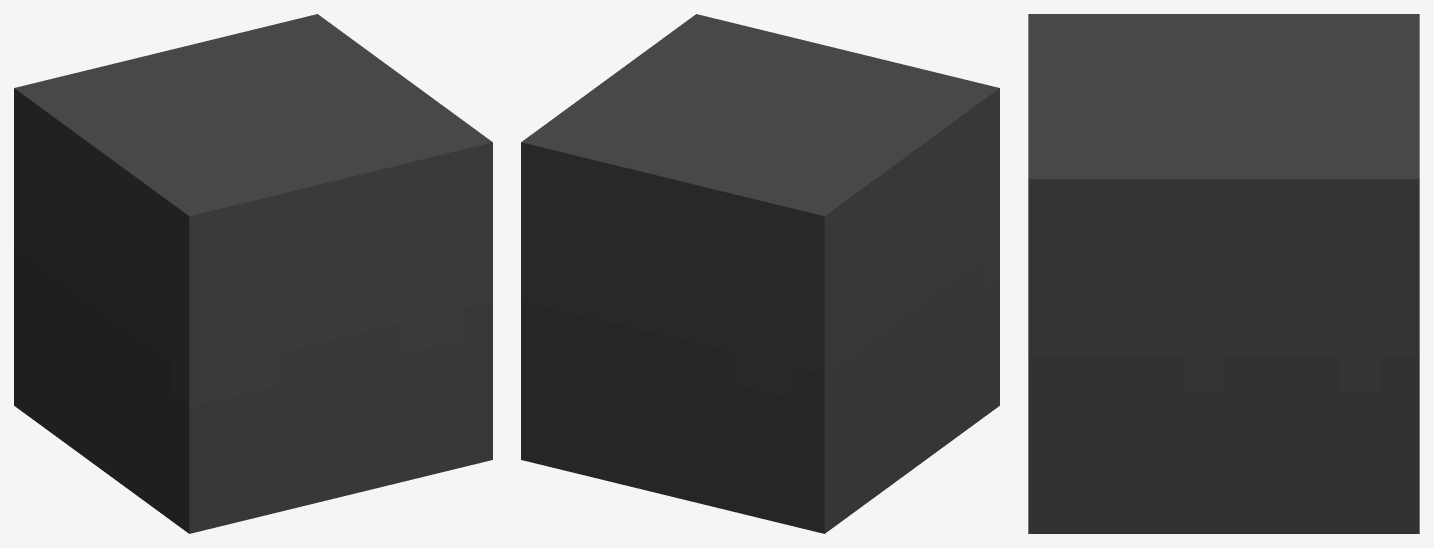
File: Boden-mitte-01.obj
The picture shows the model from 3 angles, left to right: view 1: azimuth 30°, elevation 25°; view 2: azimuth 150°, elevation 25°; view 3: azimuth 270°, elevation 25°; orthographic projection. The views are drawn at different scales.
Size of the model in its own units: 1 by 1 by 1.
1 material, 1 textured.
